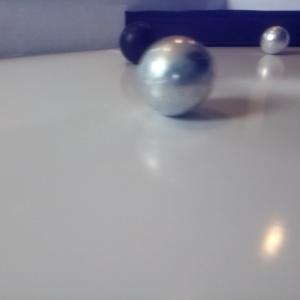zone: (126, 9, 300, 47)
